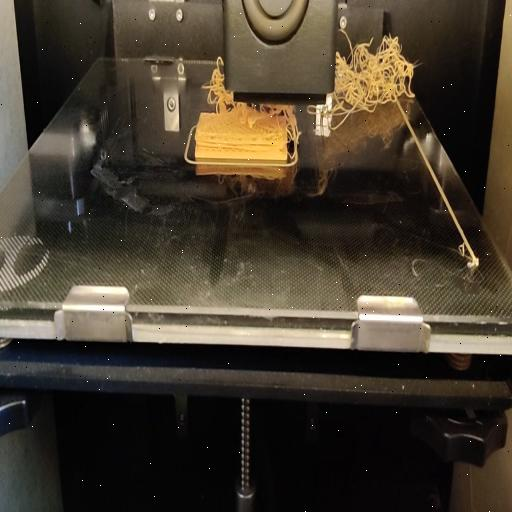spaghetti: (336, 28, 414, 132), (228, 103, 304, 135), (204, 59, 224, 114)
